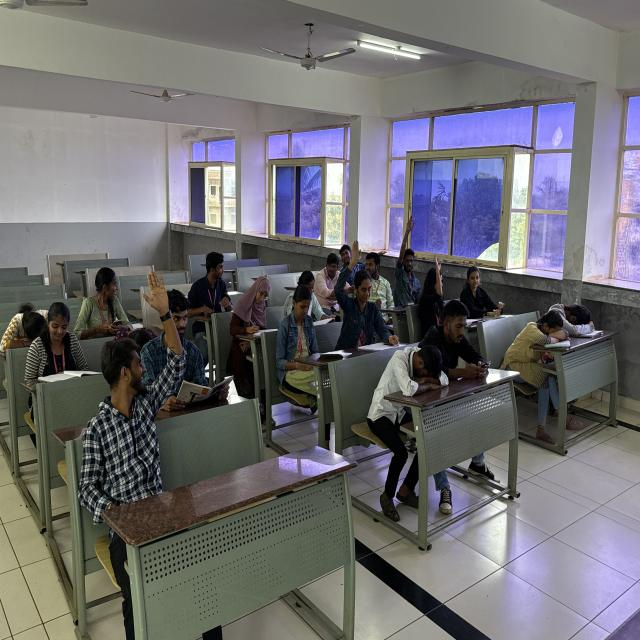Hand Rising: (80, 267, 188, 494), (332, 237, 403, 349), (394, 208, 422, 306)
Reading: (26, 298, 107, 393)
Sleeping: (369, 343, 449, 476), (505, 306, 572, 422), (543, 295, 602, 341)
Using Phone: (274, 280, 330, 406), (422, 304, 496, 381)
Writing: (229, 272, 278, 359)
